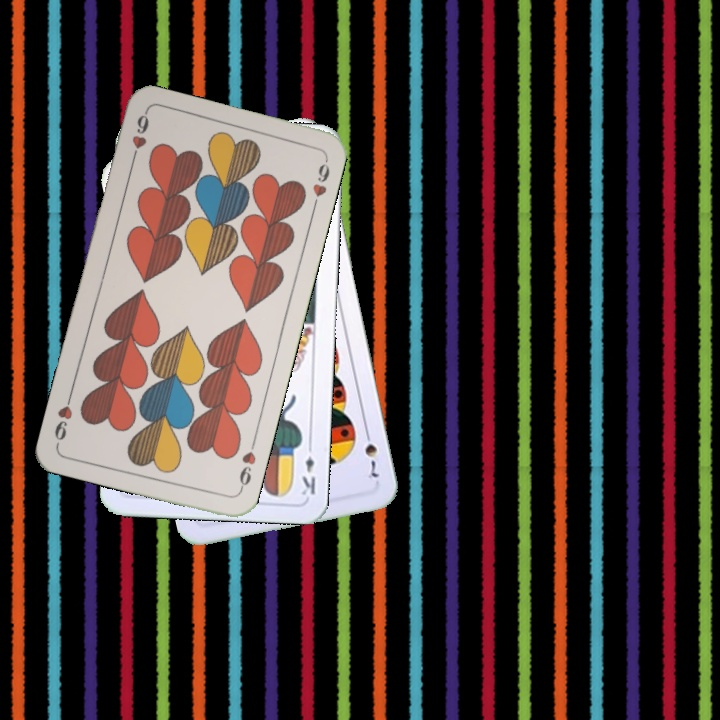EK: (298, 439, 318, 498)
H9: (127, 109, 152, 167), (235, 436, 259, 495)
S7: (360, 425, 381, 481)
